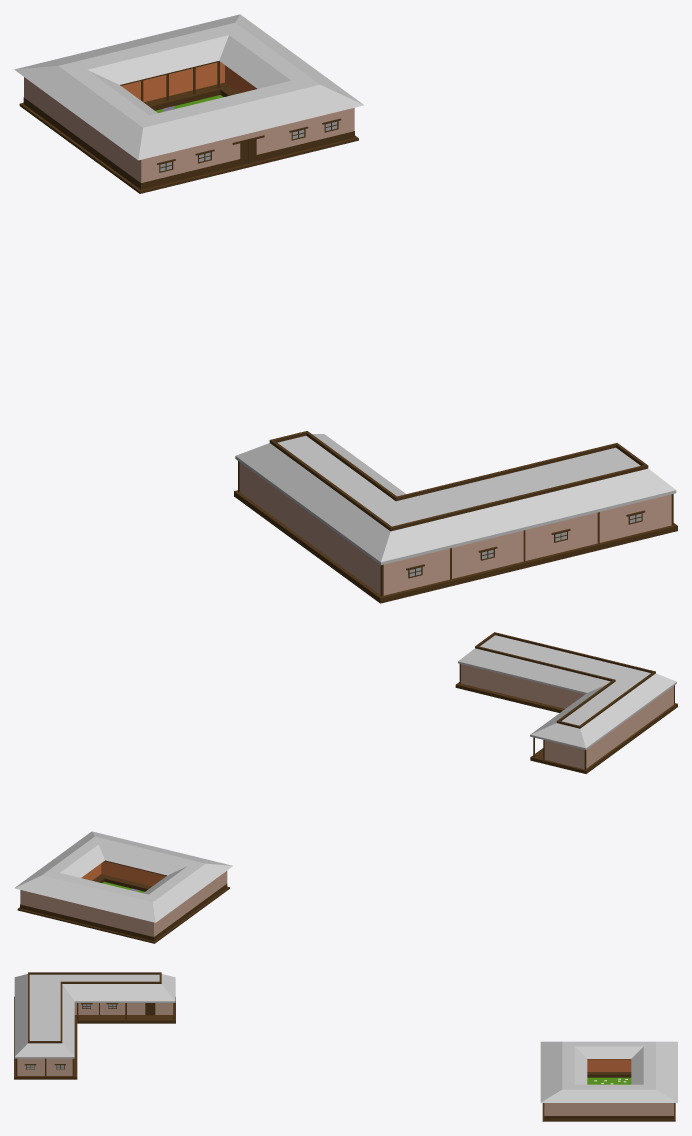
The model's file is Buildings_Set_04.fbx.
The picture shows the model from 3 angles, top to bottom: view 1: azimuth 30°, elevation 25°; view 2: azimuth 150°, elevation 25°; view 3: azimuth 270°, elevation 25°; orthographic projection. The views are drawn at different scales.
Parts seen in each view (by area): view 1: Cube.042; view 2: Cube.042; view 3: Cube.042.
Part boxes in pixels (left/top/right/bottom): Cube.042: left=14, top=14, right=677, bottom=603; Cube.042: left=14, top=632, right=677, bottom=943; Cube.042: left=14, top=972, right=677, bottom=1121.
Bounding box in the file's own units: 13.92 × 1.75 × 31.45.
